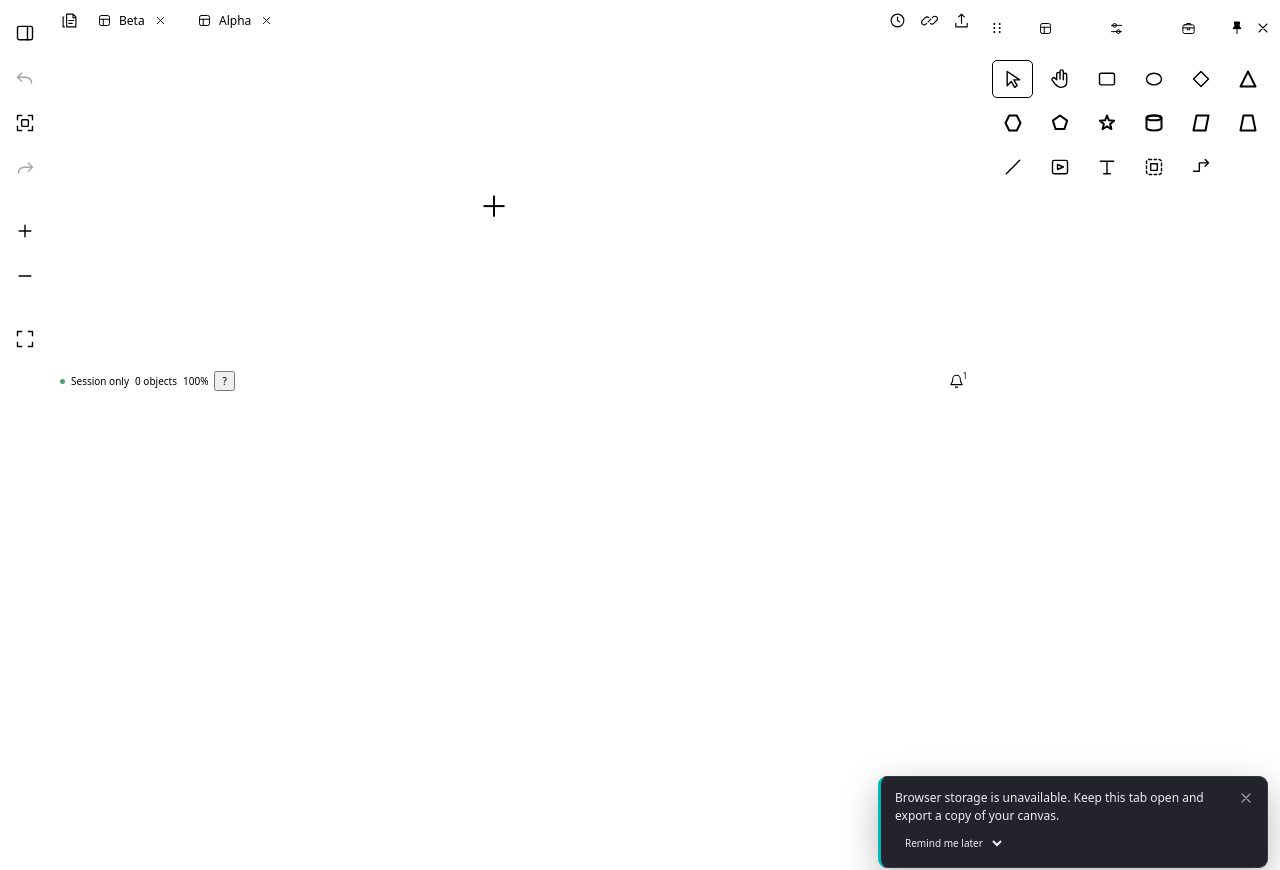
it: copying workspace view links › captures all open tabs and flushes valid property drafts before generating a selectable fallback URL
This screenshot has width=1280, height=870.
Expected: the tab "Alpha" is shown, [192, 0, 256, 42]
Click the button named "Add rectangle" at (1106, 79), box [1086, 60, 1127, 98]
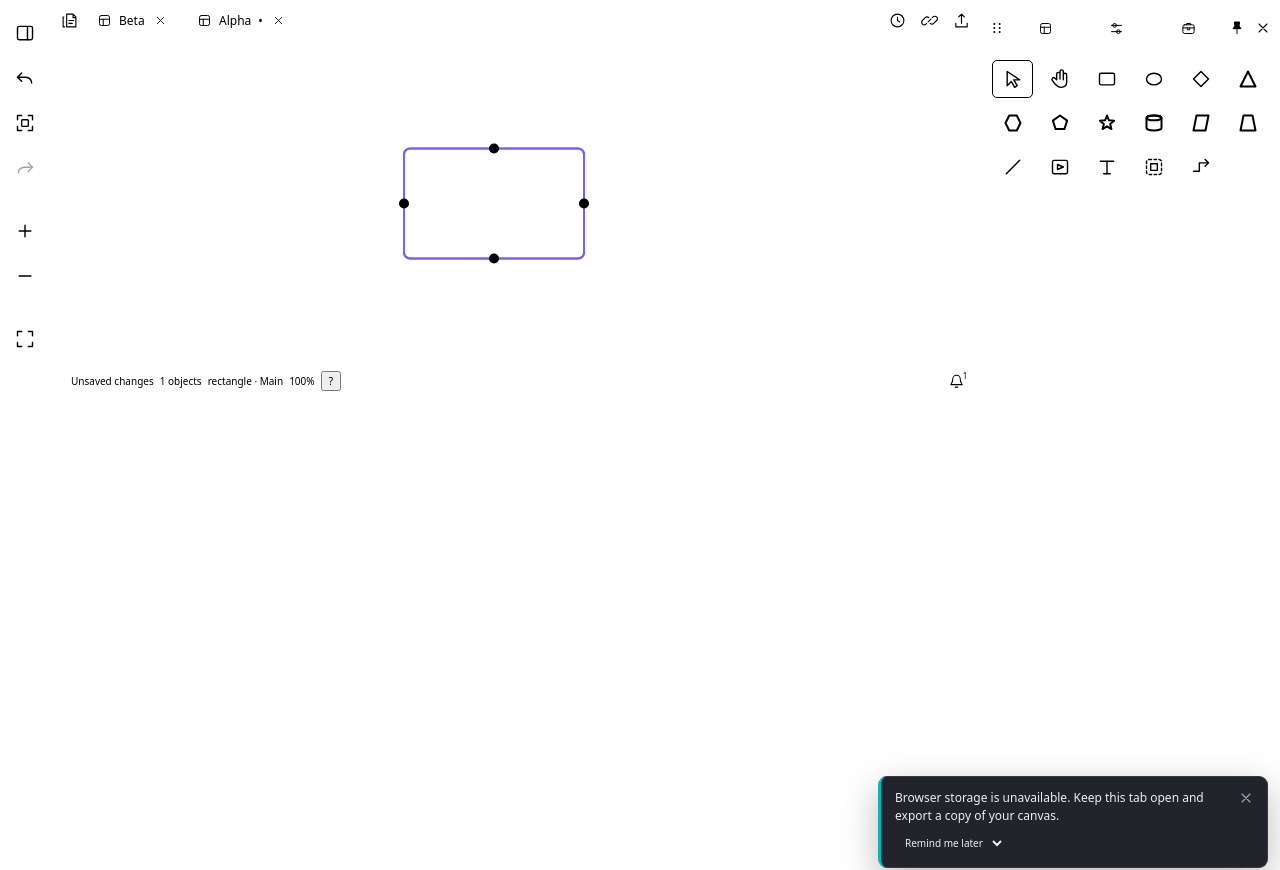
Click the tab named "Properties" at (1117, 28), box [1082, 8, 1152, 48]
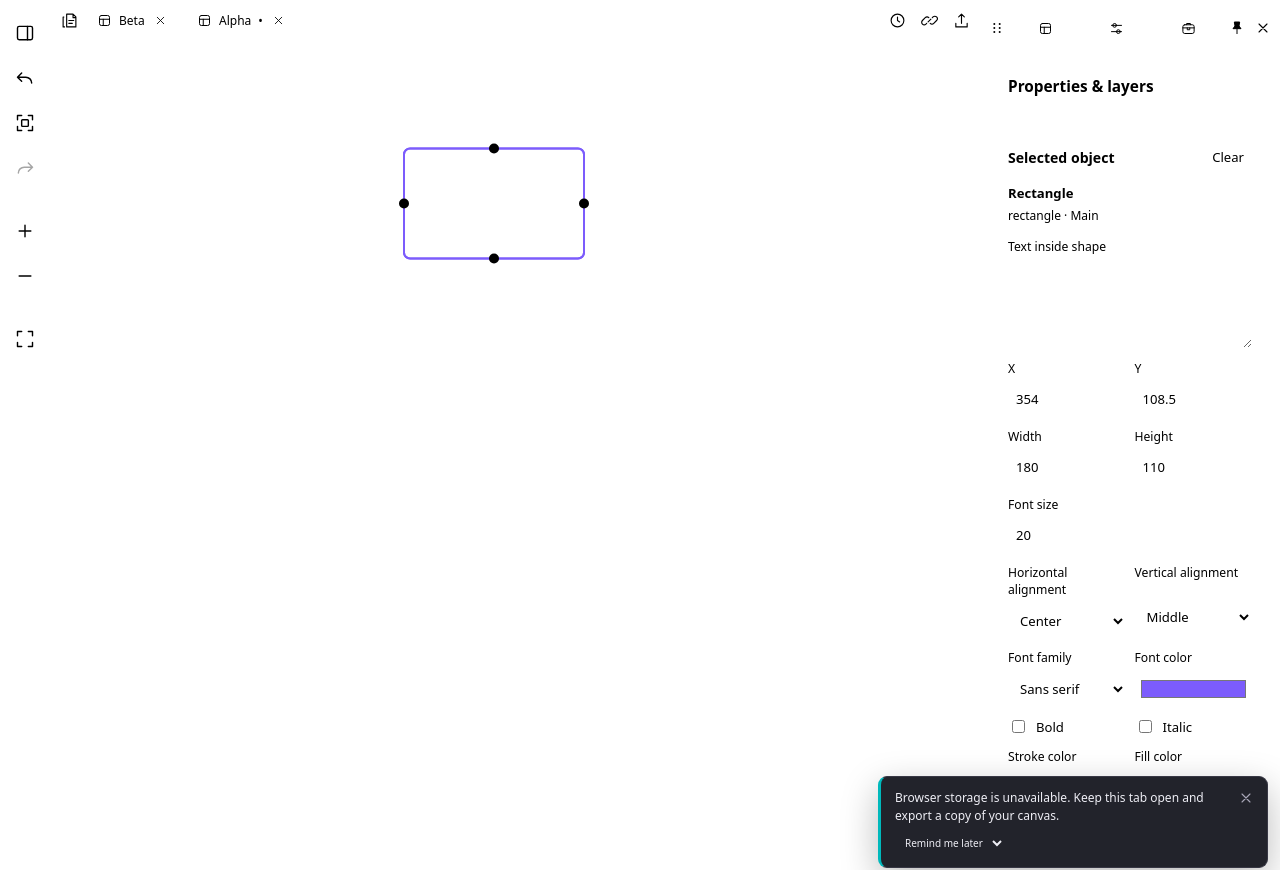
Type "Captured draft" into the text box labelled "Text inside shape" at (1130, 304), box [1008, 260, 1252, 348]
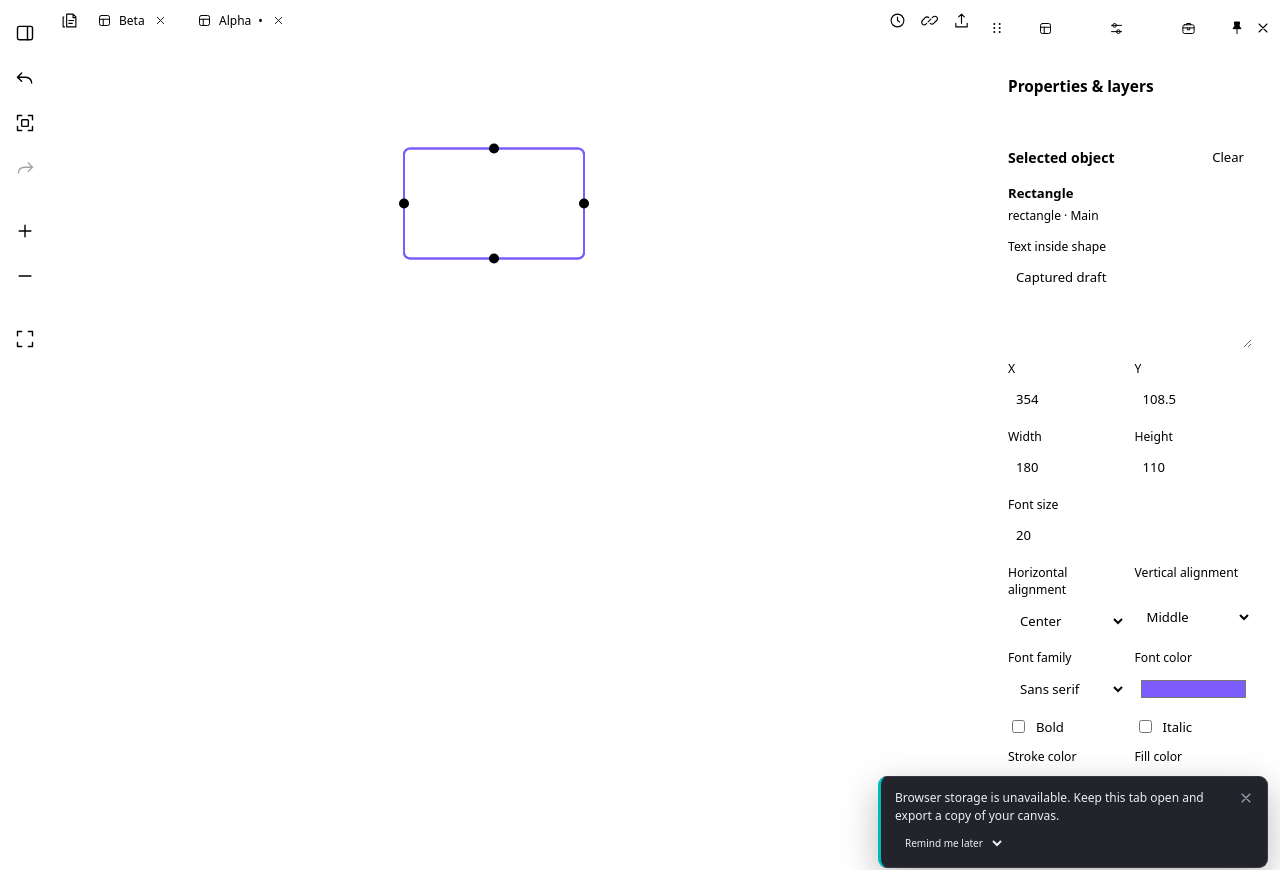
Click the button named "Copy view link" at (929, 20), box [914, 5, 944, 35]
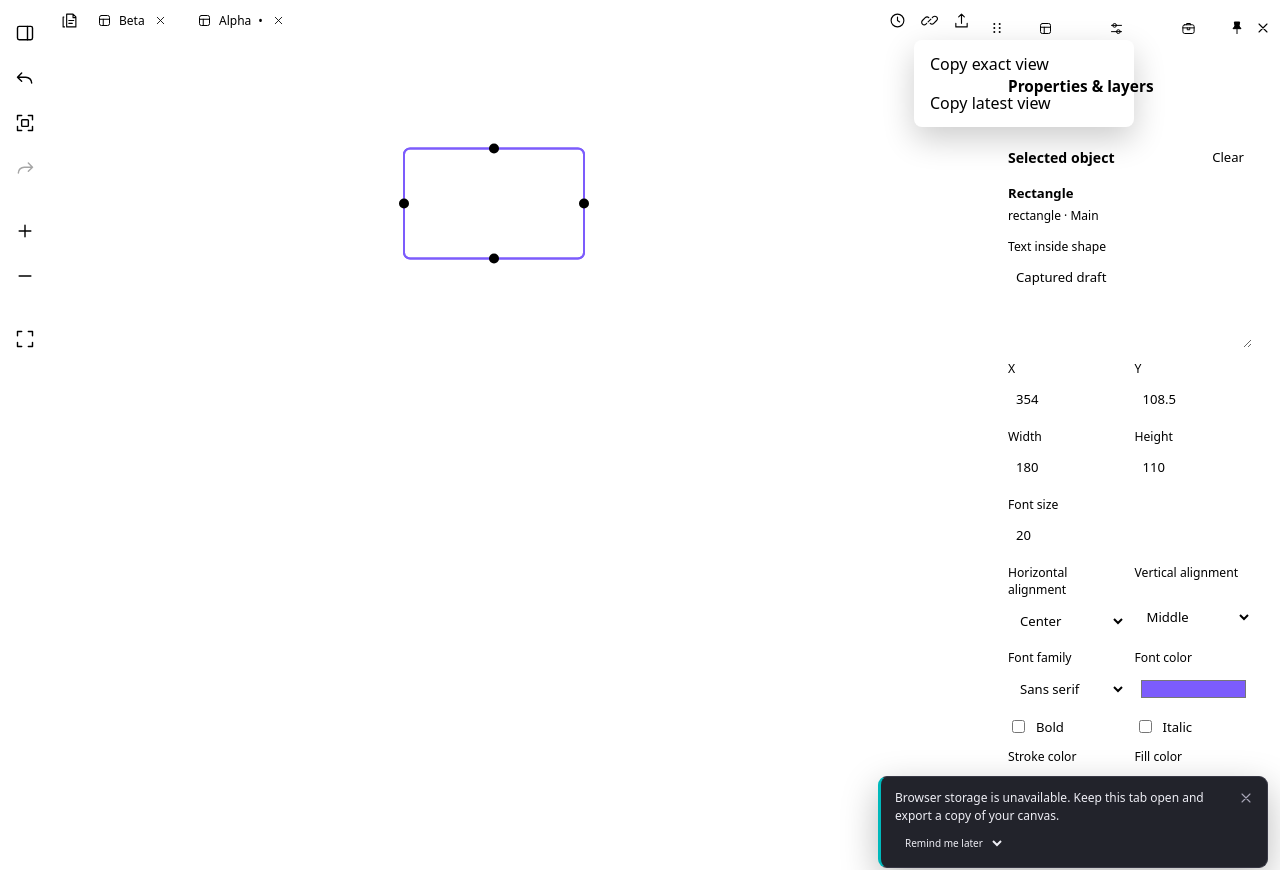
Click the menu item "Copy exact view" at (1024, 64), box [920, 46, 1128, 82]
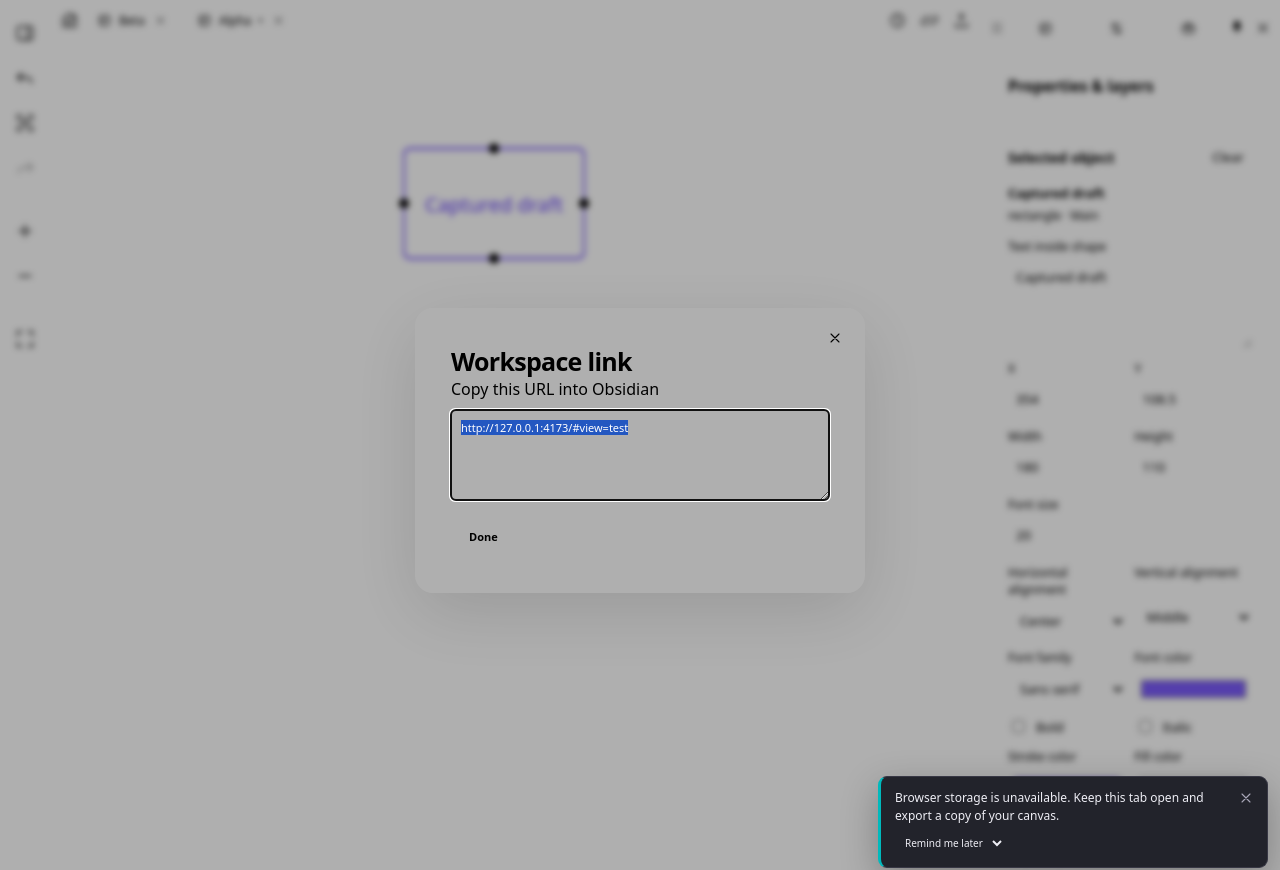
Expected: the text box labelled "Copy this URL into Obsidian" holds "http://127.0.0.1:4173/#view=test", [451, 410, 829, 500]
Press Escape in the dialog "Workspace link", box [415, 308, 865, 592]
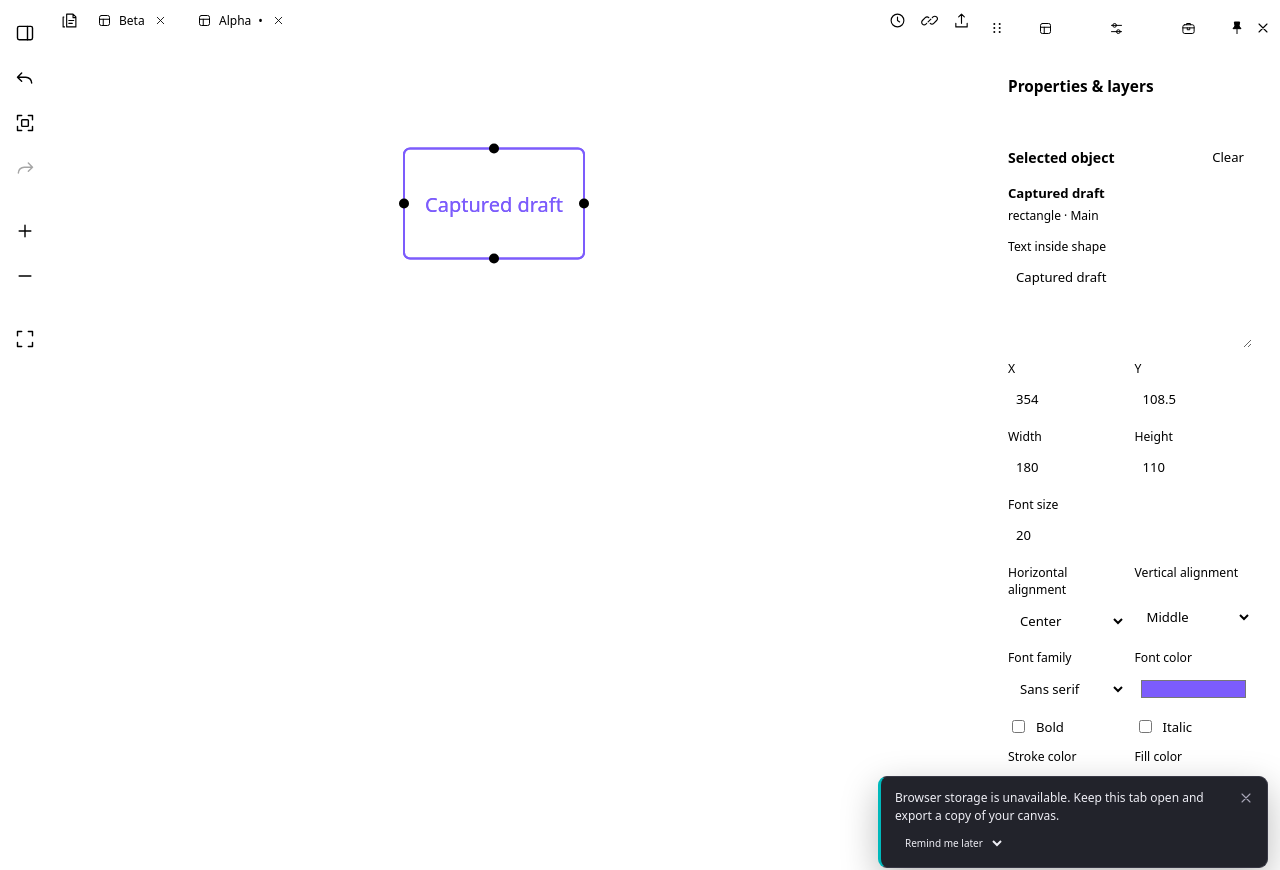
Expected: the dialog is gone
